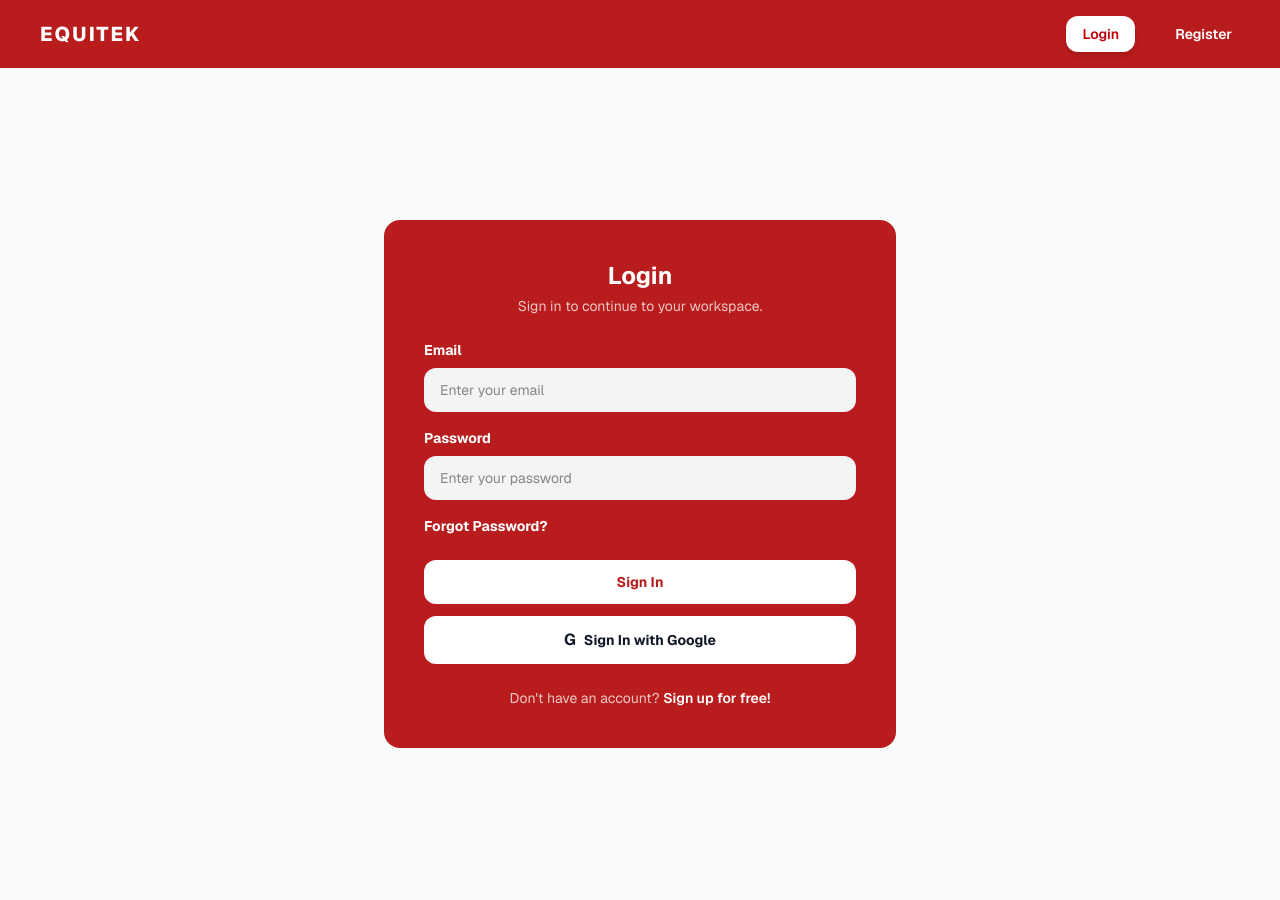
Scenario: handleLogin › shows error message when login throws an Error
Type "user1@gmail.com" into the field labelled "Email" at coordinates (640, 390), box [424,368,856,412]
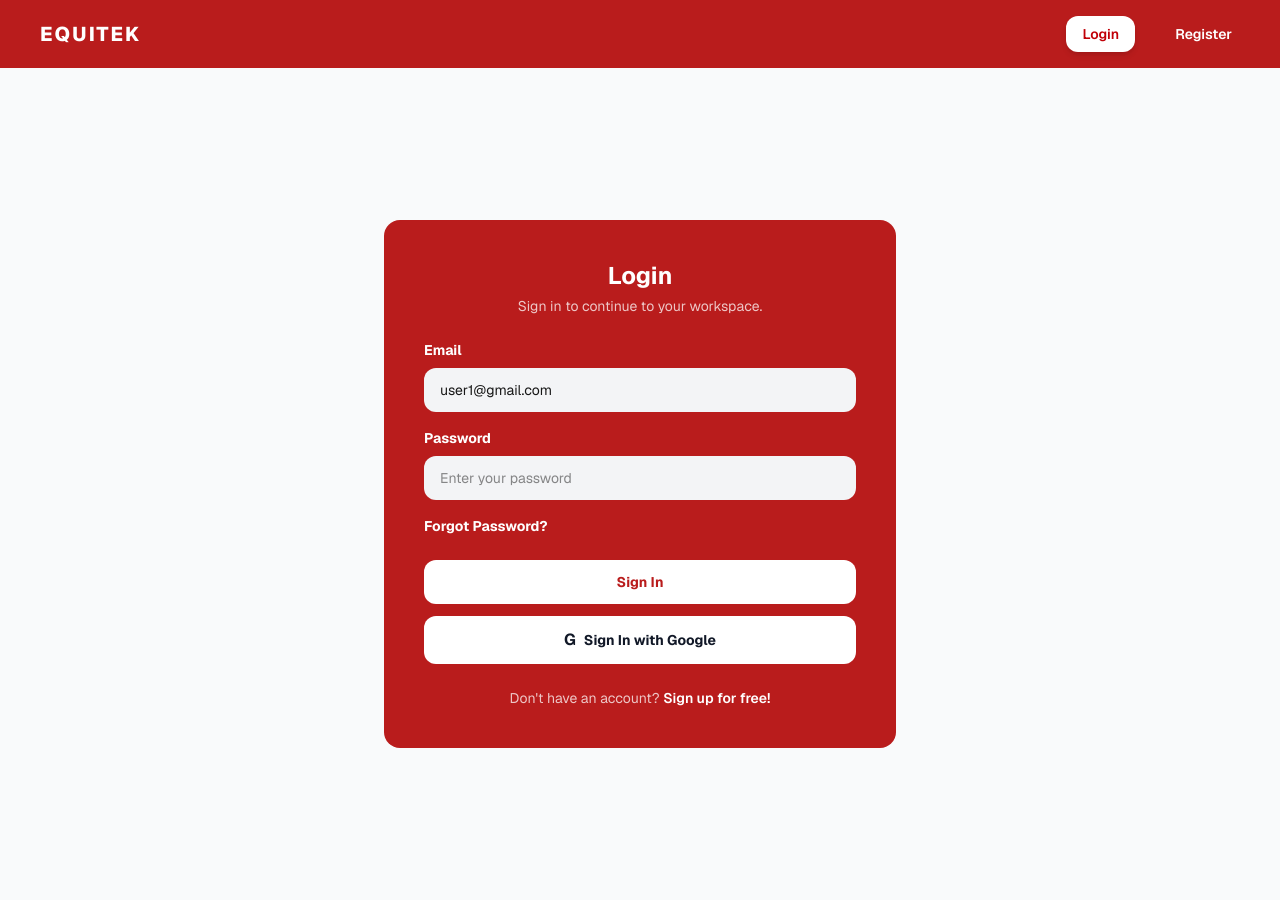
Type "wrongpassword" into the password field labelled "Password" at coordinates (640, 478), box [424,456,856,500]
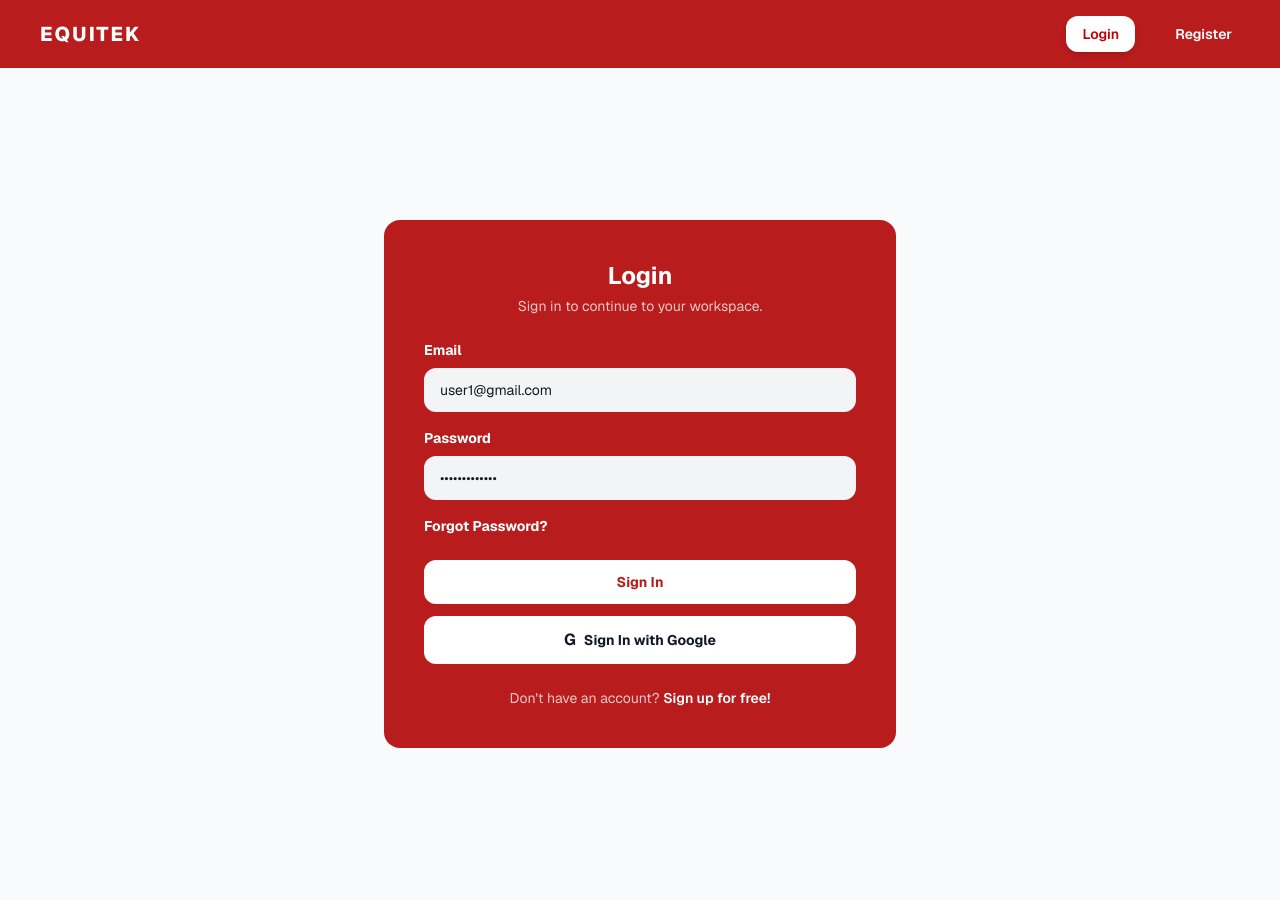
Click the button "Sign In" at coordinates (640, 582), box [424,560,856,604]
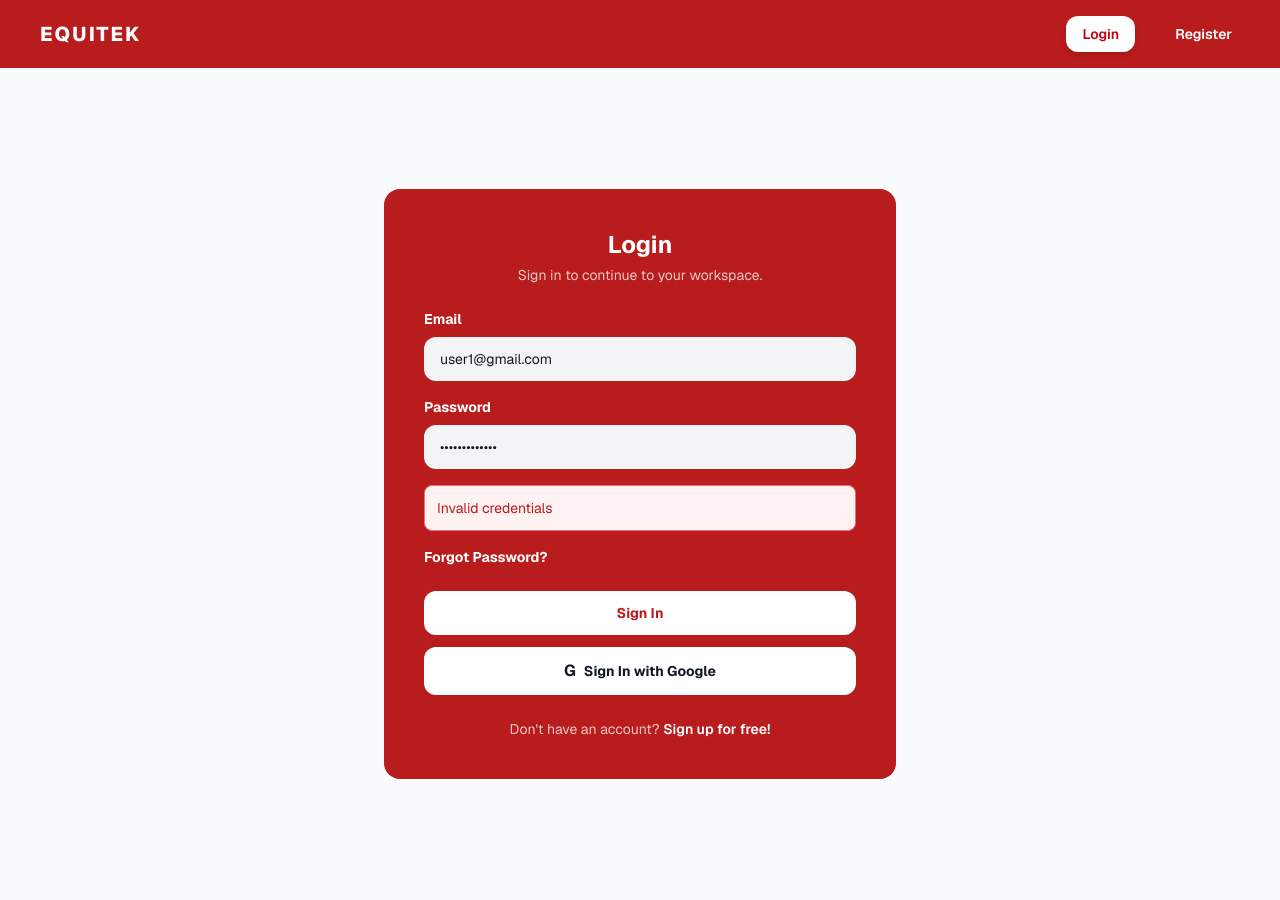
Check: the message reads "Invalid credentials", box [437,499,552,517]
